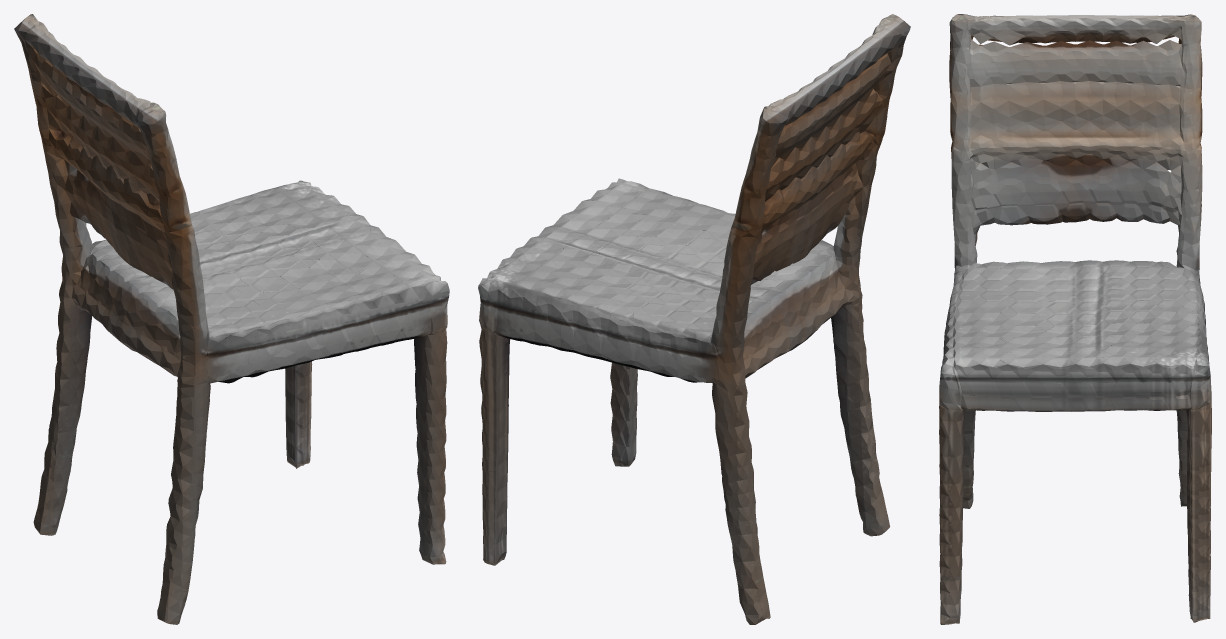
Rendered from elem_115_131_206_213_6_2.obj.
3 renders of one model, left to right at view 1: azimuth 30°, elevation 25°; view 2: azimuth 150°, elevation 25°; view 3: azimuth 270°, elevation 25°, orthographic. The views are drawn at different scales.
Size of the model in its own units: 0.4336 by 0.7097 by 0.3623.
Materials: 1 (1 with a texture image).
